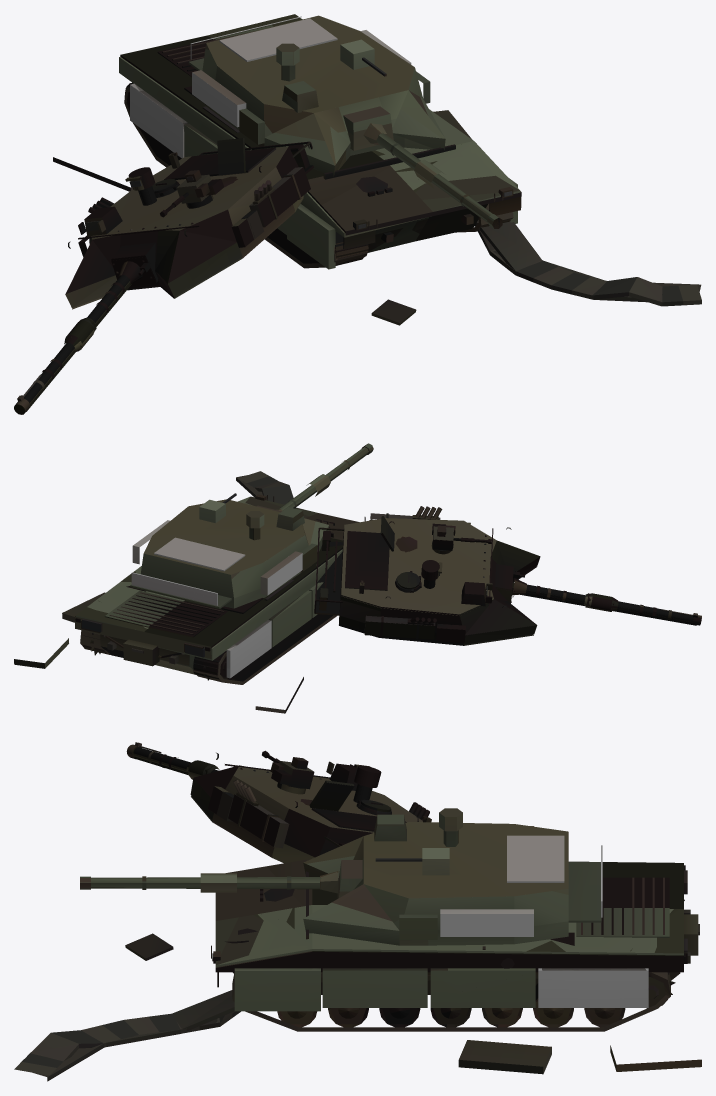
File: tank_modern_mbt_fractured.glb
3 views of the same model, one above another, from view 1: azimuth 30°, elevation 25°; view 2: azimuth 150°, elevation 25°; view 3: azimuth 270°, elevation 25° (orthographic). The views are drawn at different scales.
Visible parts, largest first — view 1: tank_modern_mbt_RUIN_LOD0_loose_turret_mesh, tank_modern_mbt_DMG_turret_mesh, tank_modern_mbt_RUIN_LOD0_mesh, tank_modern_mbt_FRAC_08_mesh, tank_modern_mbt_RUIN_LOD2_mesh, tank_modern_mbt_RUIN_LOD1_mesh, tank_modern_mbt_DMG_mesh, tank_modern_mbt_FRAC_12_mesh, tank_modern_mbt_DMG_gun_mesh, tank_modern_mbt_RUIN_LOD1_loose_turret_mesh, tank_modern_mbt_FRAC_03_mesh, tank_modern_mbt_FRAC_10_mesh (+4 smaller); view 2: tank_modern_mbt_RUIN_LOD0_loose_turret_mesh, tank_modern_mbt_DMG_turret_mesh, tank_modern_mbt_RUIN_LOD2_mesh, tank_modern_mbt_FRAC_08_mesh, tank_modern_mbt_RUIN_LOD0_mesh, tank_modern_mbt_RUIN_LOD1_loose_turret_mesh, tank_modern_mbt_DMG_mesh, tank_modern_mbt_RUIN_LOD1_mesh, tank_modern_mbt_FRAC_05_mesh, tank_modern_mbt_FRAC_16_mesh, tank_modern_mbt_FRAC_12_mesh, tank_modern_mbt_FRAC_07_mesh (+3 smaller); view 3: tank_modern_mbt_DMG_turret_mesh, tank_modern_mbt_FRAC_08_mesh, tank_modern_mbt_RUIN_LOD0_loose_turret_mesh, tank_modern_mbt_RUIN_LOD0_mesh, tank_modern_mbt_RUIN_LOD1_mesh, tank_modern_mbt_RUIN_LOD2_mesh, tank_modern_mbt_FRAC_02_mesh, tank_modern_mbt_DMG_mesh, tank_modern_mbt_FRAC_13_mesh, tank_modern_mbt_FRAC_17_mesh, tank_modern_mbt_FRAC_16_mesh, tank_modern_mbt_FRAC_20_mesh (+5 smaller).
Part boxes in pixels (bbox=[...]): tank_modern_mbt_RUIN_LOD0_loose_turret_mesh: bbox=[14, 138, 313, 414]; tank_modern_mbt_DMG_turret_mesh: bbox=[192, 15, 445, 176]; tank_modern_mbt_RUIN_LOD0_mesh: bbox=[53, 31, 701, 325]; tank_modern_mbt_FRAC_08_mesh: bbox=[188, 16, 499, 228]; tank_modern_mbt_RUIN_LOD2_mesh: bbox=[26, 35, 701, 411]; tank_modern_mbt_RUIN_LOD1_mesh: bbox=[53, 39, 674, 306]; tank_modern_mbt_DMG_mesh: bbox=[119, 14, 519, 265]; tank_modern_mbt_FRAC_12_mesh: bbox=[129, 80, 184, 167]; tank_modern_mbt_DMG_gun_mesh: bbox=[343, 106, 502, 228]; tank_modern_mbt_RUIN_LOD1_loose_turret_mesh: bbox=[14, 168, 313, 414]; tank_modern_mbt_FRAC_03_mesh: bbox=[409, 152, 520, 229]; tank_modern_mbt_FRAC_10_mesh: bbox=[309, 198, 415, 269]; tank_modern_mbt_RUIN_LOD0_loose_turret_mesh: bbox=[314, 506, 701, 639]; tank_modern_mbt_DMG_turret_mesh: bbox=[130, 493, 317, 608]; tank_modern_mbt_RUIN_LOD2_mesh: bbox=[75, 475, 696, 681]; tank_modern_mbt_FRAC_08_mesh: bbox=[130, 443, 372, 608]; tank_modern_mbt_RUIN_LOD0_mesh: bbox=[14, 471, 372, 712]; tank_modern_mbt_RUIN_LOD1_loose_turret_mesh: bbox=[314, 519, 700, 644]; tank_modern_mbt_DMG_mesh: bbox=[76, 496, 323, 682]; tank_modern_mbt_RUIN_LOD1_mesh: bbox=[62, 481, 359, 713]; tank_modern_mbt_FRAC_05_mesh: bbox=[263, 586, 317, 648]; tank_modern_mbt_FRAC_16_mesh: bbox=[98, 582, 178, 624]; tank_modern_mbt_FRAC_12_mesh: bbox=[222, 620, 270, 684]; tank_modern_mbt_FRAC_07_mesh: bbox=[76, 600, 149, 650]; tank_modern_mbt_DMG_turret_mesh: bbox=[303, 808, 568, 945]; tank_modern_mbt_FRAC_08_mesh: bbox=[80, 813, 602, 945]; tank_modern_mbt_RUIN_LOD0_loose_turret_mesh: bbox=[126, 742, 431, 862]; tank_modern_mbt_RUIN_LOD0_mesh: bbox=[14, 859, 701, 1075]; tank_modern_mbt_RUIN_LOD1_mesh: bbox=[27, 866, 687, 1073]; tank_modern_mbt_RUIN_LOD2_mesh: bbox=[34, 756, 683, 1081]; tank_modern_mbt_FRAC_02_mesh: bbox=[305, 936, 461, 1031]; tank_modern_mbt_DMG_mesh: bbox=[215, 893, 687, 1031]; tank_modern_mbt_FRAC_13_mesh: bbox=[453, 970, 582, 1031]; tank_modern_mbt_FRAC_17_mesh: bbox=[237, 937, 328, 1011]; tank_modern_mbt_FRAC_16_mesh: bbox=[550, 908, 665, 954]; tank_modern_mbt_FRAC_20_mesh: bbox=[573, 951, 648, 1007].
Bounding box in the file's own units: 12.8 × 2.89 × 11.41.
